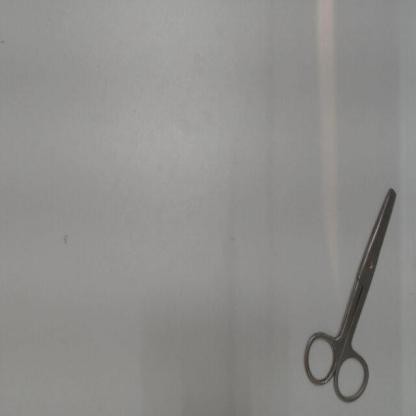Dressing Scissors: (293, 177, 406, 408)
